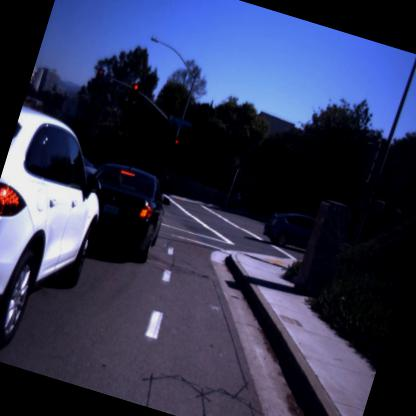trafficlight: (122, 78, 142, 113), (91, 66, 105, 90)
